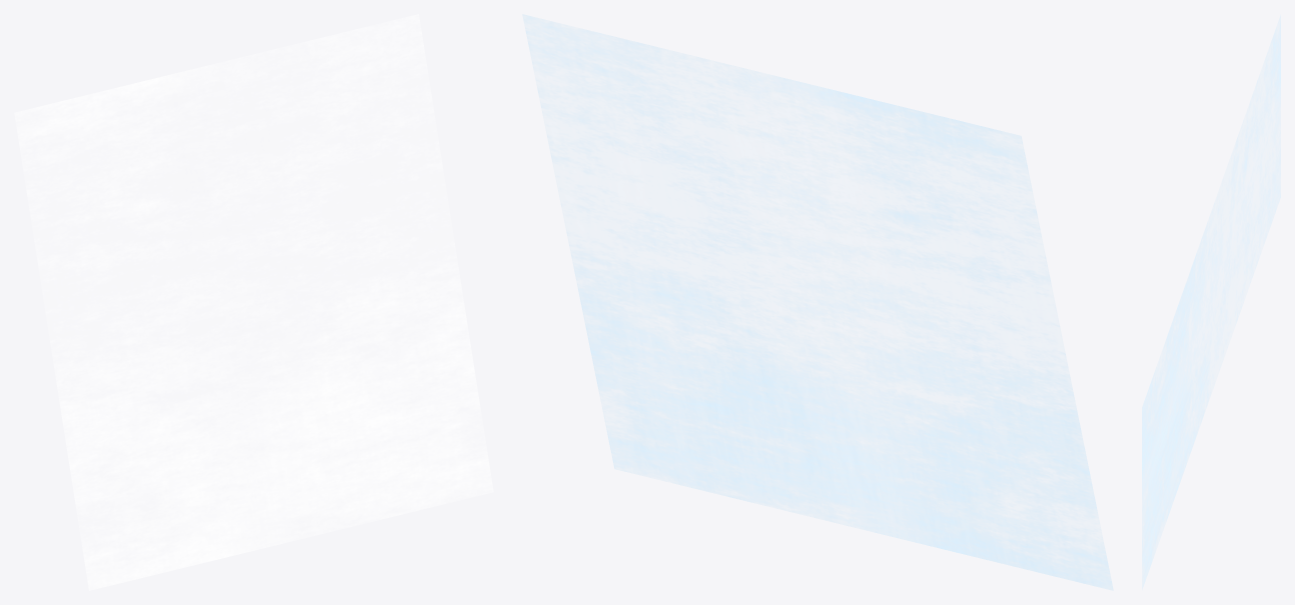
The model's file is citadel_fx_wflow_a0.glb.
3 views of the same model, side by side, from view 1: azimuth 30°, elevation 25°; view 2: azimuth 150°, elevation 25°; view 3: azimuth 270°, elevation 25° (orthographic). The views are drawn at different scales.
Parts seen in each view (by area): view 1: citadel_fx_wflow_a0; view 2: citadel_fx_wflow_a0; view 3: citadel_fx_wflow_a0.
Part boxes in pixels (x1,y1,x2,y2): citadel_fx_wflow_a0: (14, 14, 493, 590); citadel_fx_wflow_a0: (522, 14, 1113, 590); citadel_fx_wflow_a0: (1142, 15, 1280, 589).
Bounding box in the file's own units: 1 × 1 × 0.32.
1 material, 1 textured.
